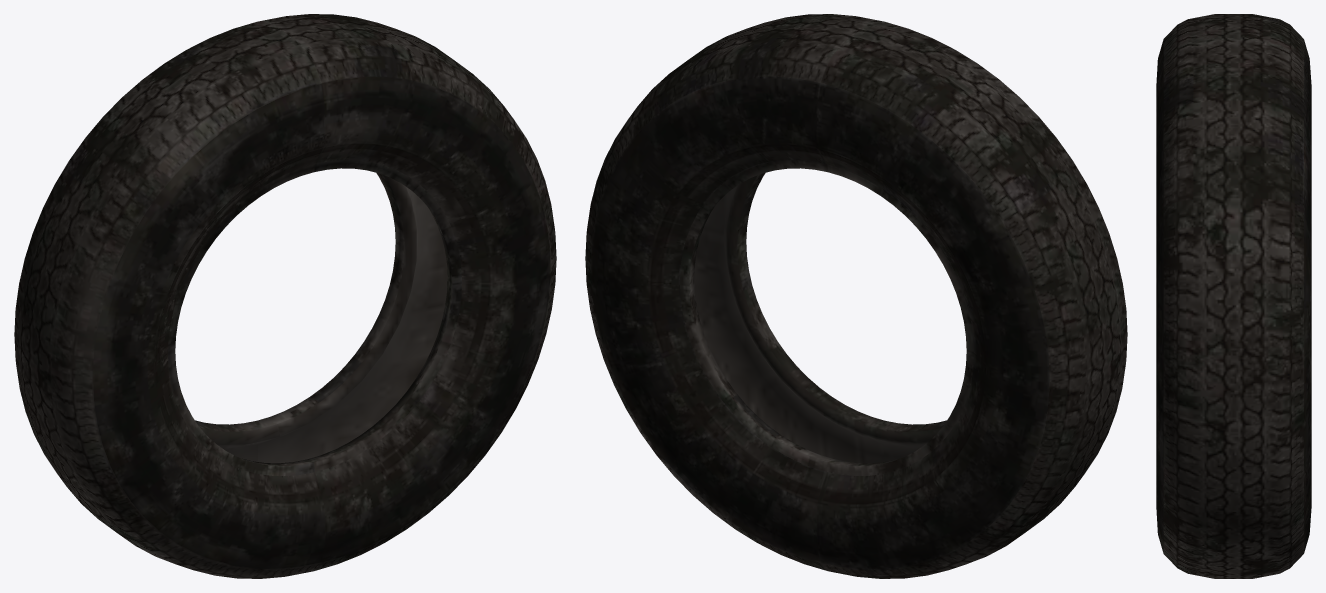
The model's file is old_tyre.glb.
3 views of the same model, side by side, from view 1: azimuth 30°, elevation 25°; view 2: azimuth 150°, elevation 25°; view 3: azimuth 270°, elevation 25° (orthographic). The views are drawn at different scales.
Parts seen in each view (by area): view 1: old_tyre; view 2: old_tyre; view 3: old_tyre.
Boxes of the visible parts, x1=… form: old_tyre: x1=14, y1=14, x2=556, y2=578; old_tyre: x1=585, y1=14, x2=1127, y2=578; old_tyre: x1=1156, y1=14, x2=1311, y2=578.
Bounding box in the file's own units: 0.6 × 0.6 × 0.165.
Materials: 1 (1 with a texture image).
